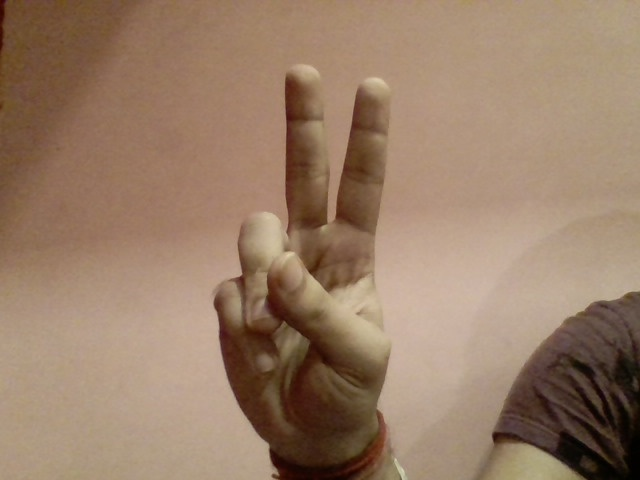v: (201, 61, 421, 443)
